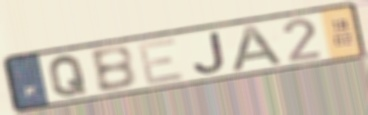2: (282, 17, 325, 64)
A: (229, 23, 287, 73)
B: (86, 44, 139, 95)
E: (135, 35, 188, 87)
J: (191, 30, 228, 76)
Q: (47, 54, 89, 98)
